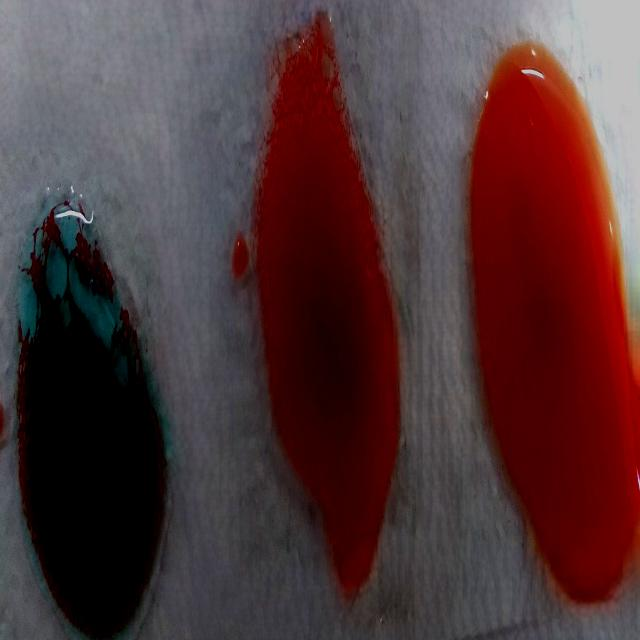A: (11, 189, 169, 632)
D: (256, 19, 404, 602)
